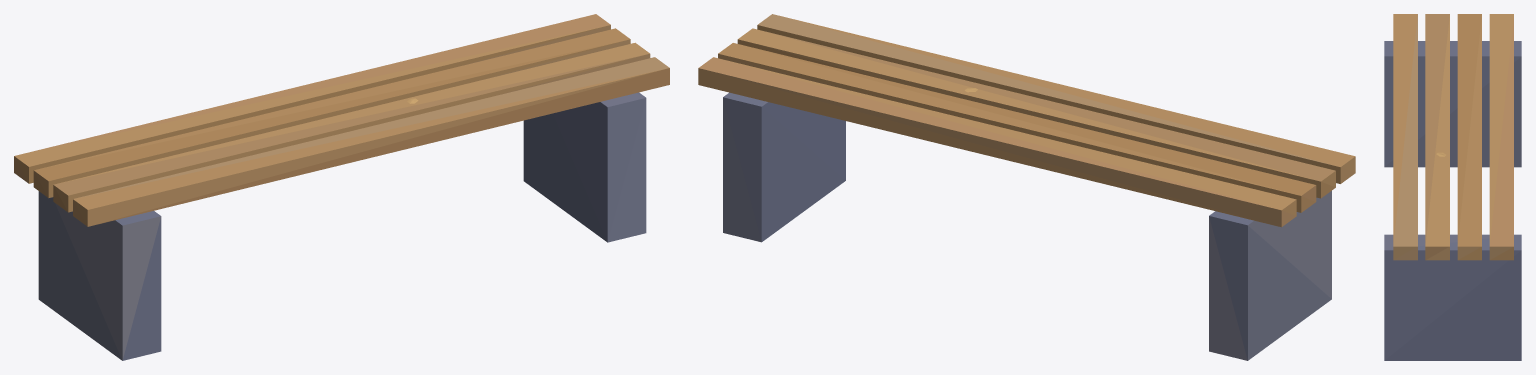
The model's file is HK_Bench.lod.glb.
The picture shows the model from 3 angles, left to right: view 1: azimuth 30°, elevation 25°; view 2: azimuth 150°, elevation 25°; view 3: azimuth 270°, elevation 25°; orthographic projection. The views are drawn at different scales.
Visible parts, largest first — view 1: HK_Bench; view 2: HK_Bench; view 3: HK_Bench.
Part boxes in pixels (<box>): HK_Bench: <box>14,14,669,360</box>; HK_Bench: <box>698,14,1355,360</box>; HK_Bench: <box>1384,14,1521,360</box>.
Size of the model in its own units: 1.8 by 0.4602 by 0.45.
